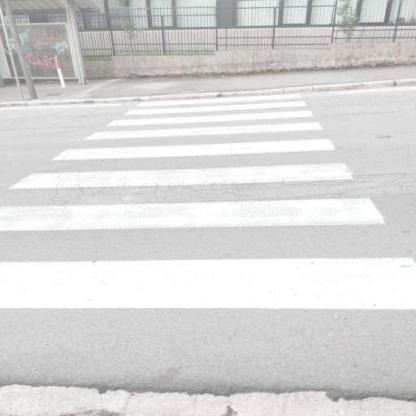crosswalk: (1, 134, 373, 196), (118, 93, 313, 118)
